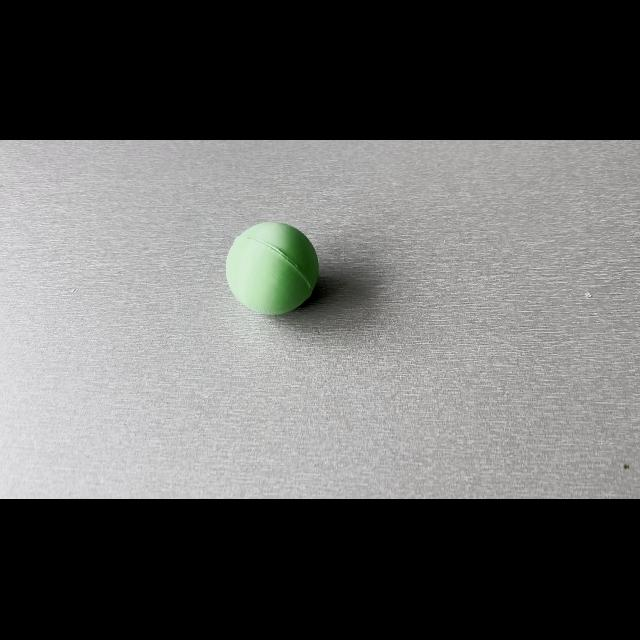objects: (216, 212, 332, 322)
